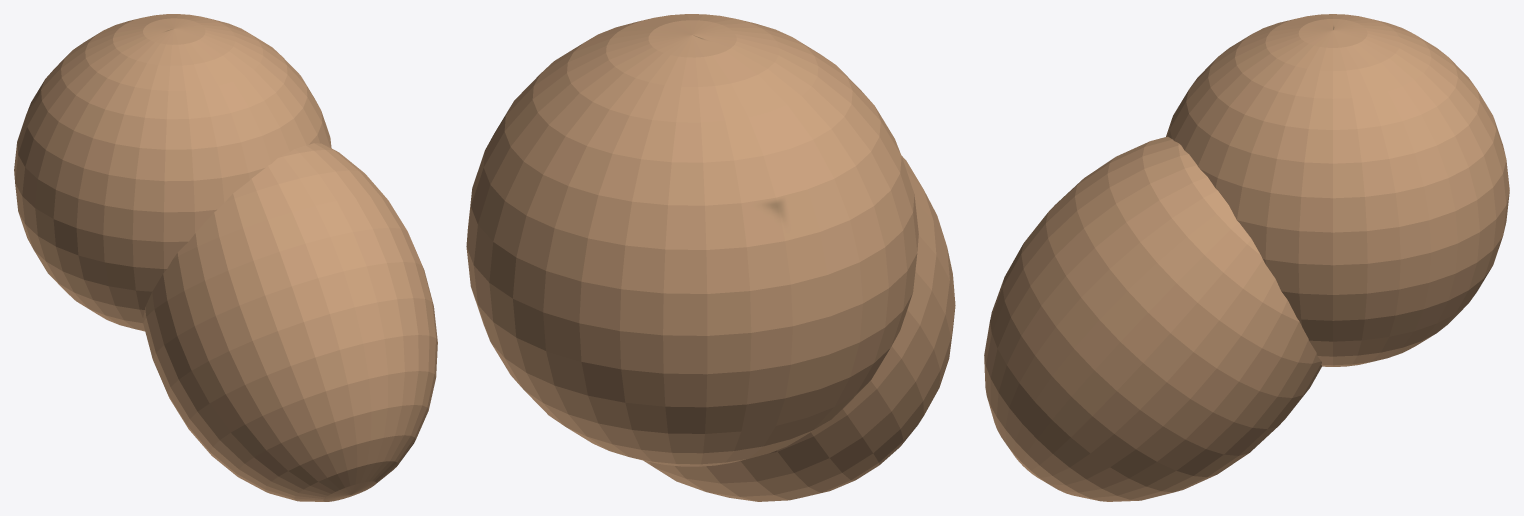
The model's file is BicepIzq_Bulls.obj.
The picture shows the model from 3 angles, left to right: view 1: azimuth 30°, elevation 25°; view 2: azimuth 150°, elevation 25°; view 3: azimuth 270°, elevation 25°; orthographic projection. The views are drawn at different scales.
Parts seen in each view (by area): view 1: BicepIzq_Bulls; view 2: BicepIzq_Bulls; view 3: BicepIzq_Bulls.
Part boxes in pixels (bbox=[...]): BicepIzq_Bulls: bbox=[14, 14, 437, 501]; BicepIzq_Bulls: bbox=[466, 14, 955, 501]; BicepIzq_Bulls: bbox=[984, 14, 1509, 501].
Size of the model in its own units: 1.25 by 1.57 by 1.71.
1 material, 1 textured.
